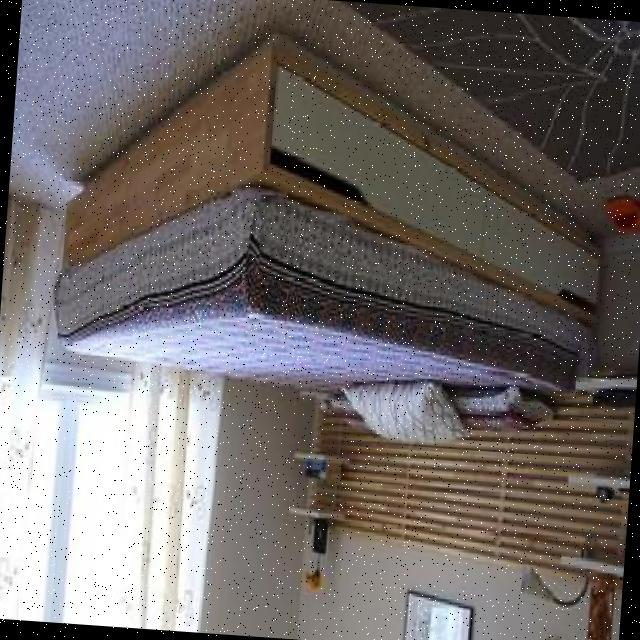Bed: (42, 6, 620, 462)
